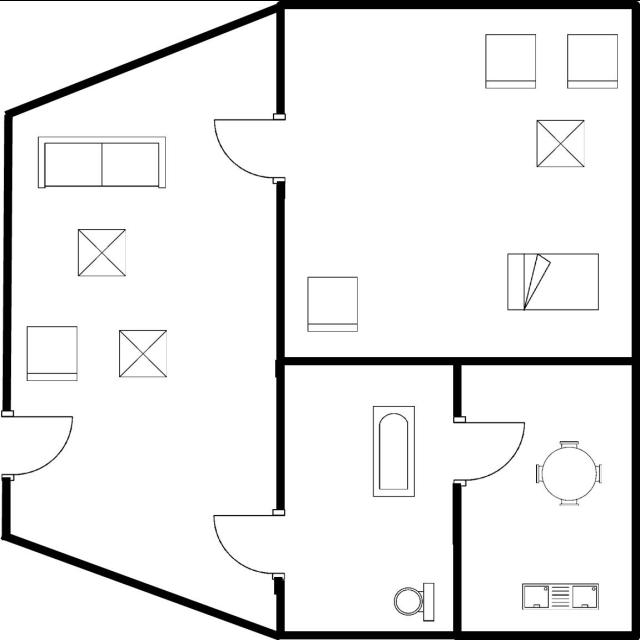bed: (500, 246, 608, 316)
coffee_table: (112, 324, 174, 382), (73, 224, 129, 282), (532, 116, 588, 170)
large_sink: (390, 578, 440, 624)
large_sofa: (32, 131, 170, 193)
round_table: (532, 435, 607, 511)
small_sofa: (301, 270, 365, 336), (22, 319, 82, 386), (562, 28, 622, 94), (481, 30, 542, 94)
tub: (366, 401, 421, 501)
twin_sink: (516, 578, 604, 616)
